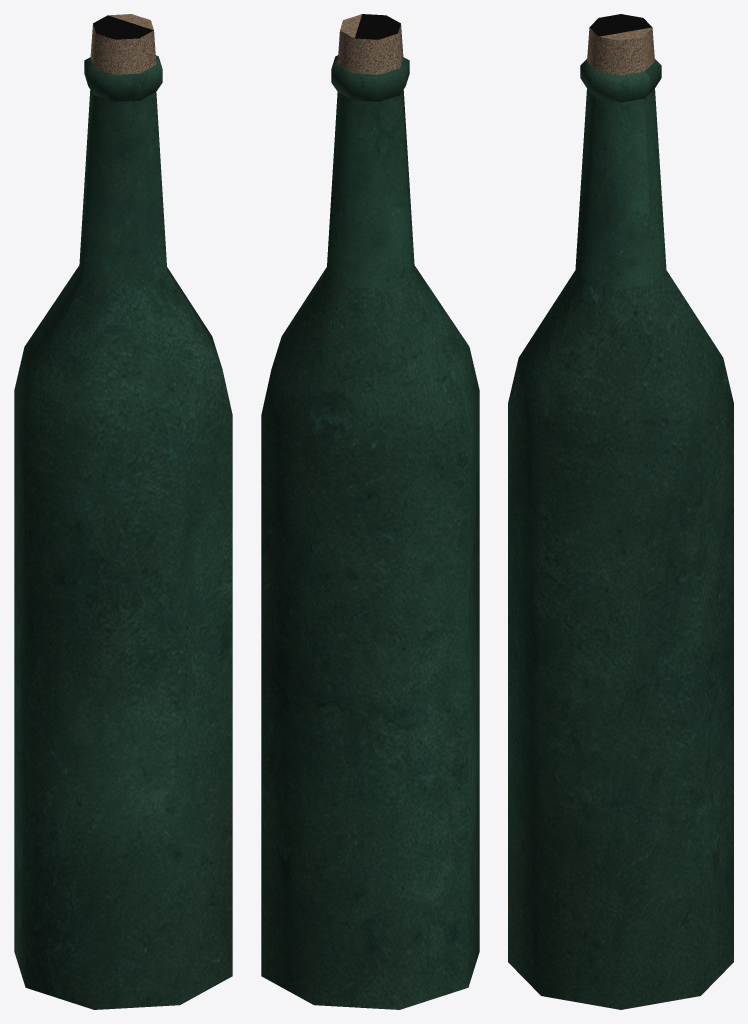
The model's file is GlasflascheGruen_Mesh.fbx.
3 renders of one model, left to right at view 1: azimuth 30°, elevation 25°; view 2: azimuth 150°, elevation 25°; view 3: azimuth 270°, elevation 25°, orthographic.
Parts seen in each view (by area): view 1: GlasflascheGruen; view 2: GlasflascheGruen; view 3: GlasflascheGruen.
Boxes of the visible parts, x1,y1,x2,y2 form: GlasflascheGruen: [14, 14, 232, 1009]; GlasflascheGruen: [261, 14, 479, 1009]; GlasflascheGruen: [508, 14, 733, 1009].
Bounding box in the file's own units: 7.99 × 36.49 × 7.99.
